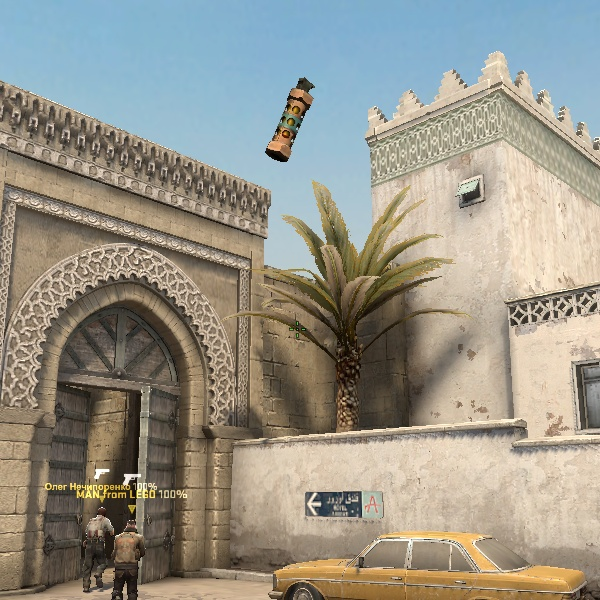t_body: (81, 507, 115, 592), (113, 519, 146, 600)
t_head: (126, 519, 137, 531), (96, 507, 107, 519)
